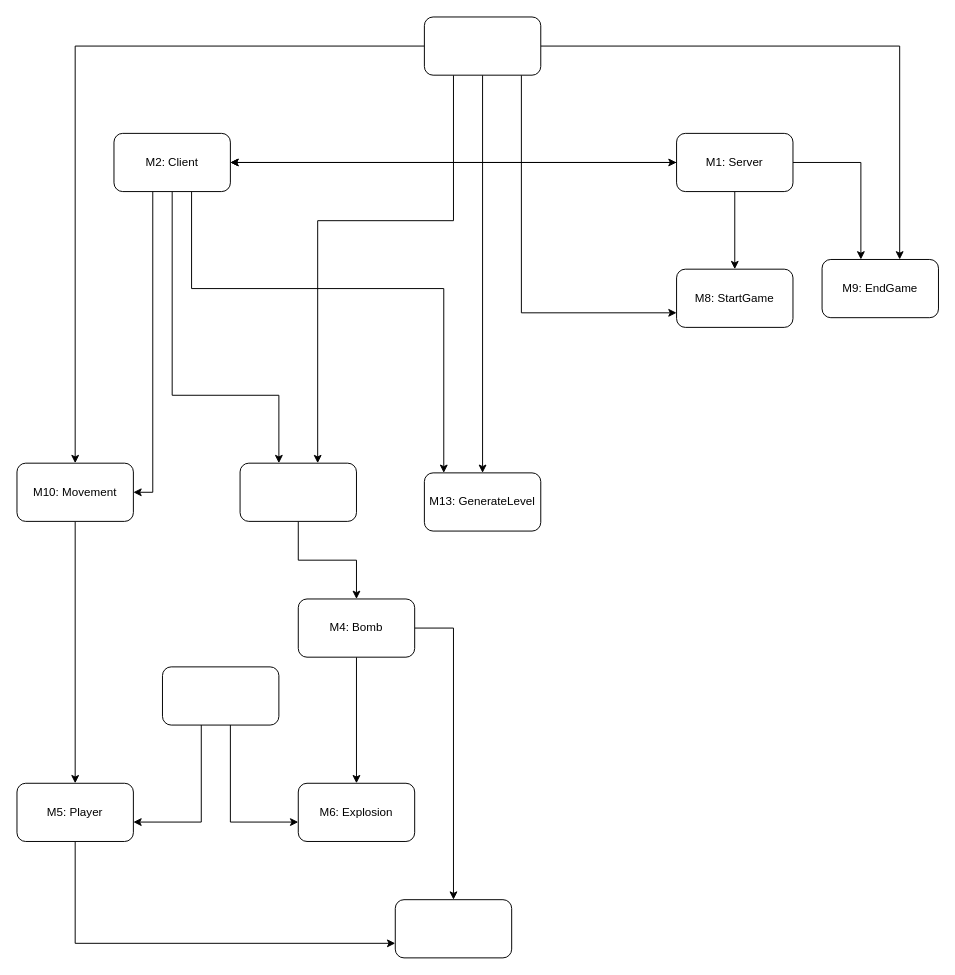
Some shapes in this 955 by 975 pixel diagram are drawn without their labels. The box of each missing label's shape, as (x1, y1, x2, y2) in pixels:
M11: PlaceBomb: (239, 462, 356, 521)
M12: Collisions: (162, 666, 279, 725)
M3: GameLoop: (423, 16, 541, 75)
M7: PowerUps: (394, 899, 512, 958)
